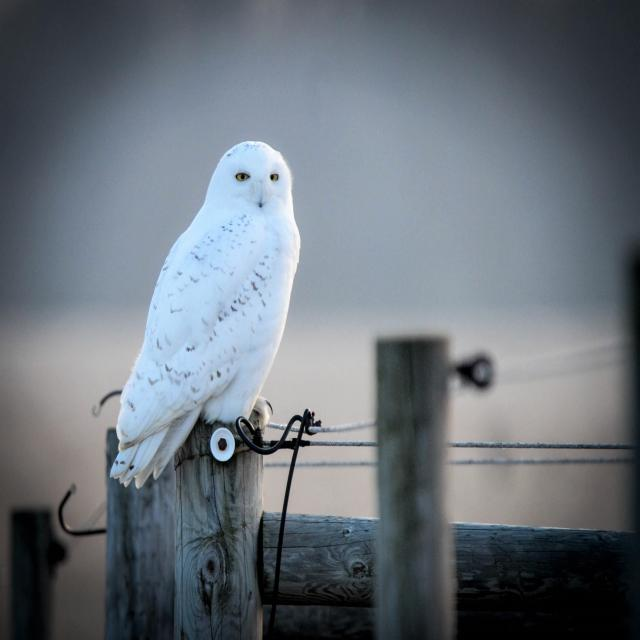Owl: (100, 125, 306, 493)
